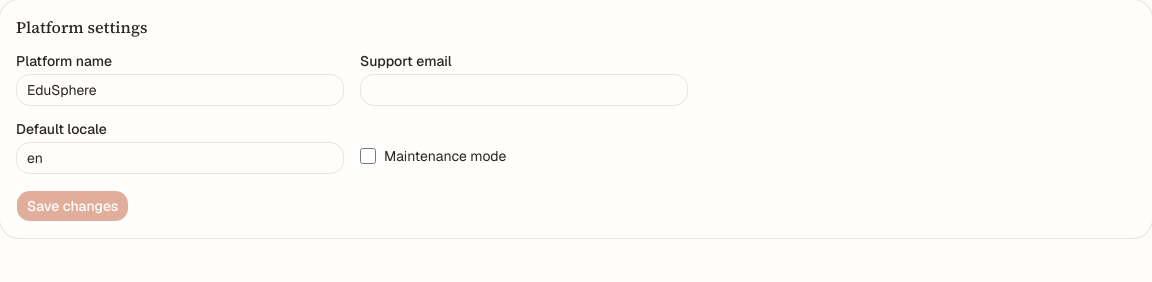
Test: SystemSettingsForm › blocks invalid input
The width and height of the screenshot is (1152, 282).
Replace the text in the field labelled "Platform name" with "x" at [180, 90], box [16,74,344,106]
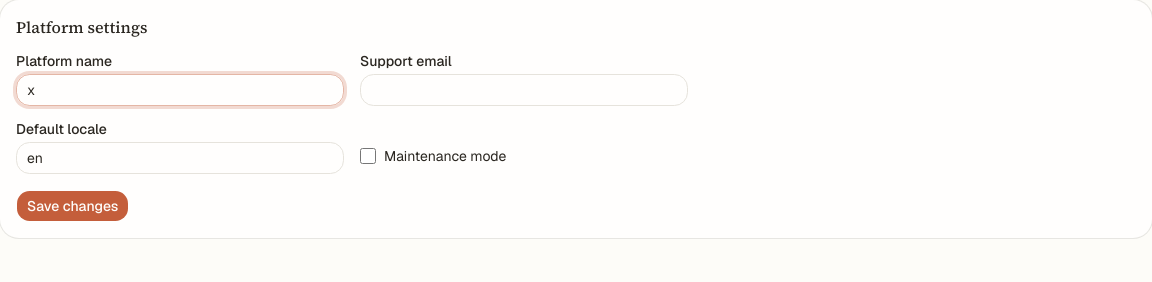
Click the button "Save changes".
click(73, 206)  # box [16,190,129,222]
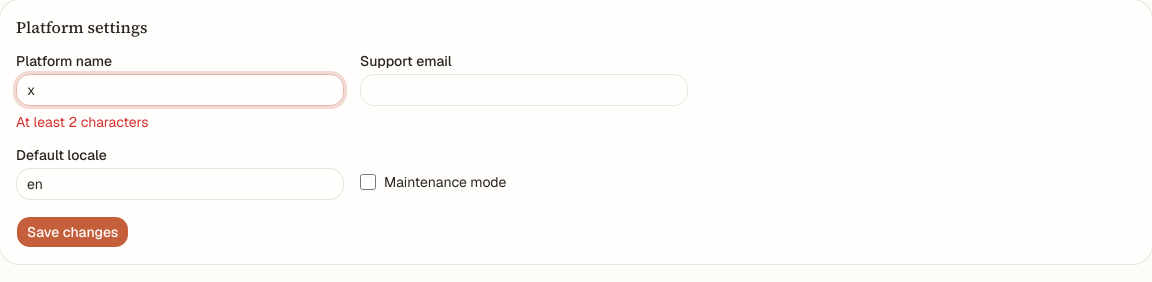
Expected: the text "At least 2 characters" is shown, [16,113,148,131]
